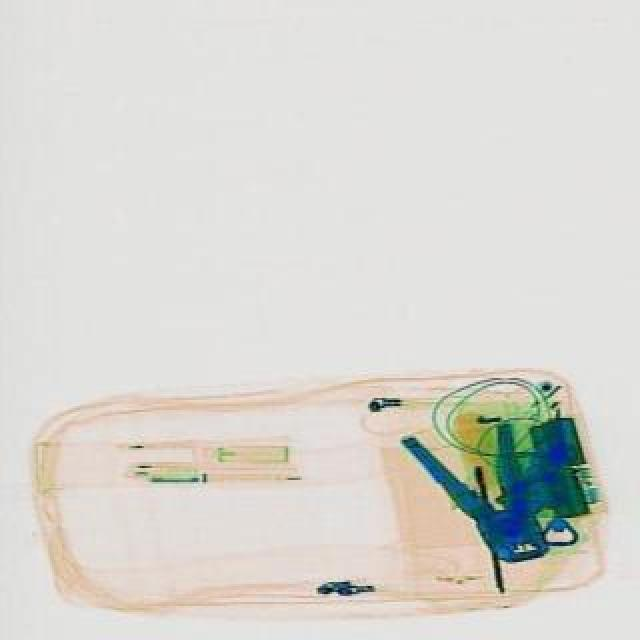wrench: (394, 396, 564, 584)
